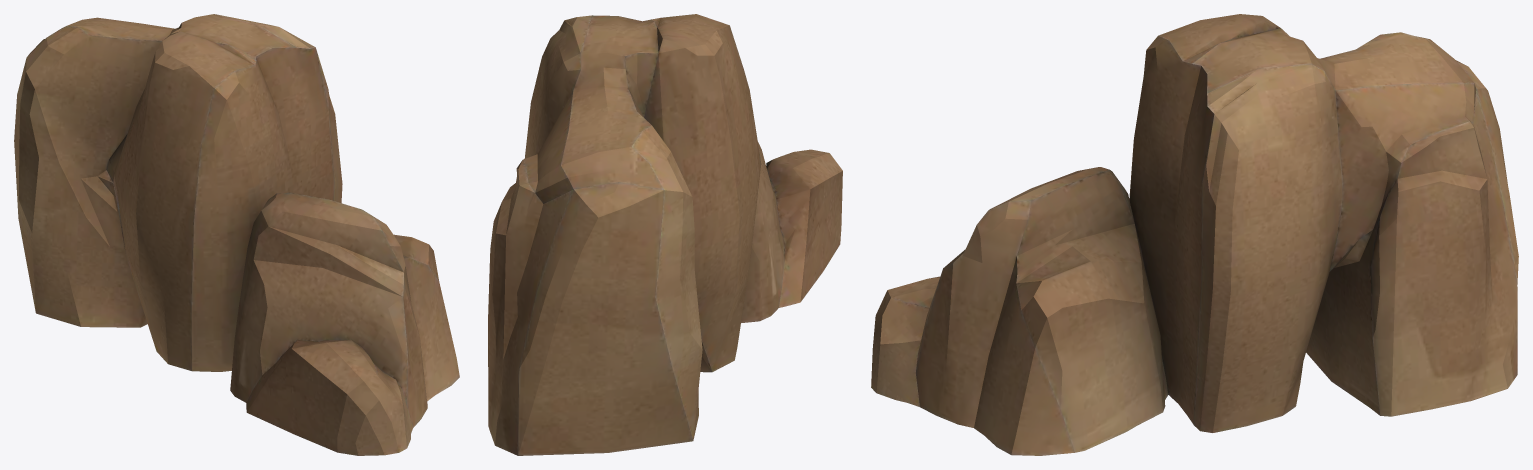
3 renders of one model, left to right at view 1: azimuth 30°, elevation 25°; view 2: azimuth 150°, elevation 25°; view 3: azimuth 270°, elevation 25°, orthographic. The views are drawn at different scales.
Visible parts, largest first — view 1: body0_model0_lod0_mesh0; view 2: body0_model0_lod0_mesh0; view 3: body0_model0_lod0_mesh0.
Part boxes in pixels (x1,y1,x2,y2): body0_model0_lod0_mesh0: (14, 14, 459, 455); body0_model0_lod0_mesh0: (488, 14, 842, 455); body0_model0_lod0_mesh0: (871, 14, 1518, 455).
Size of the model in its own units: 211 by 235 by 403.
Materials: 1 (1 with a texture image).
